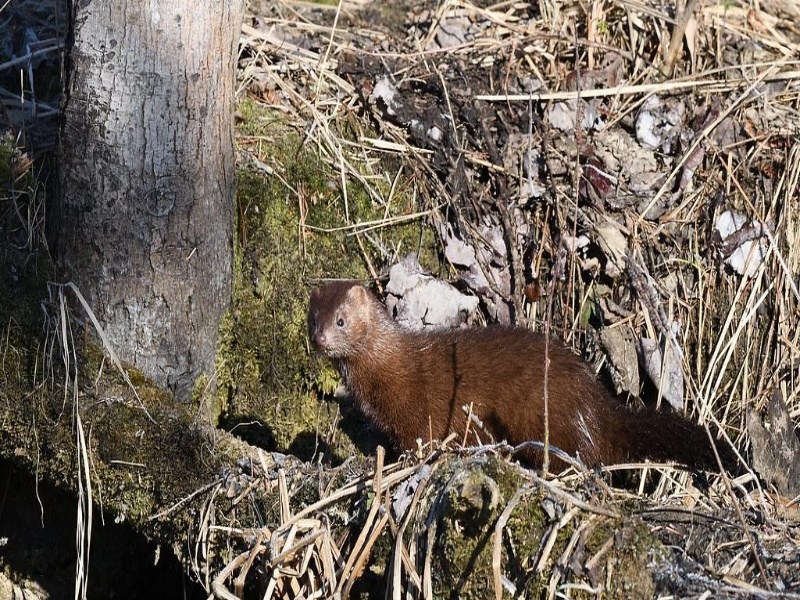minkish: (307, 277, 744, 508)
